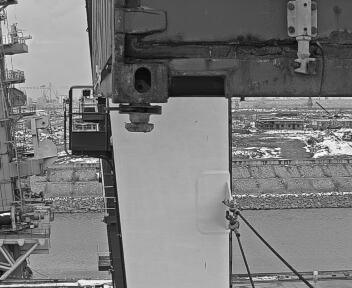twist_lock_1: (112, 94, 168, 142)
